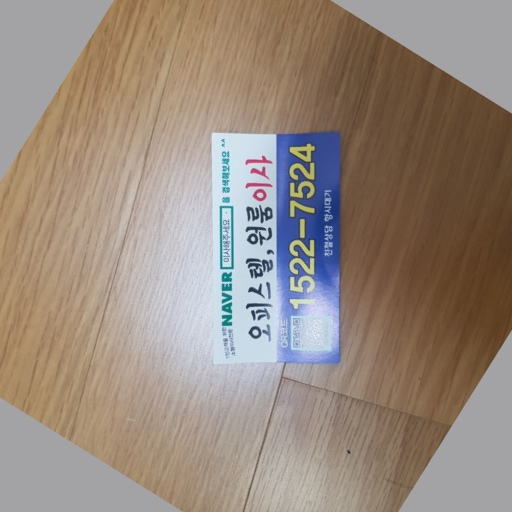Paper_2: (205, 121, 355, 394)
